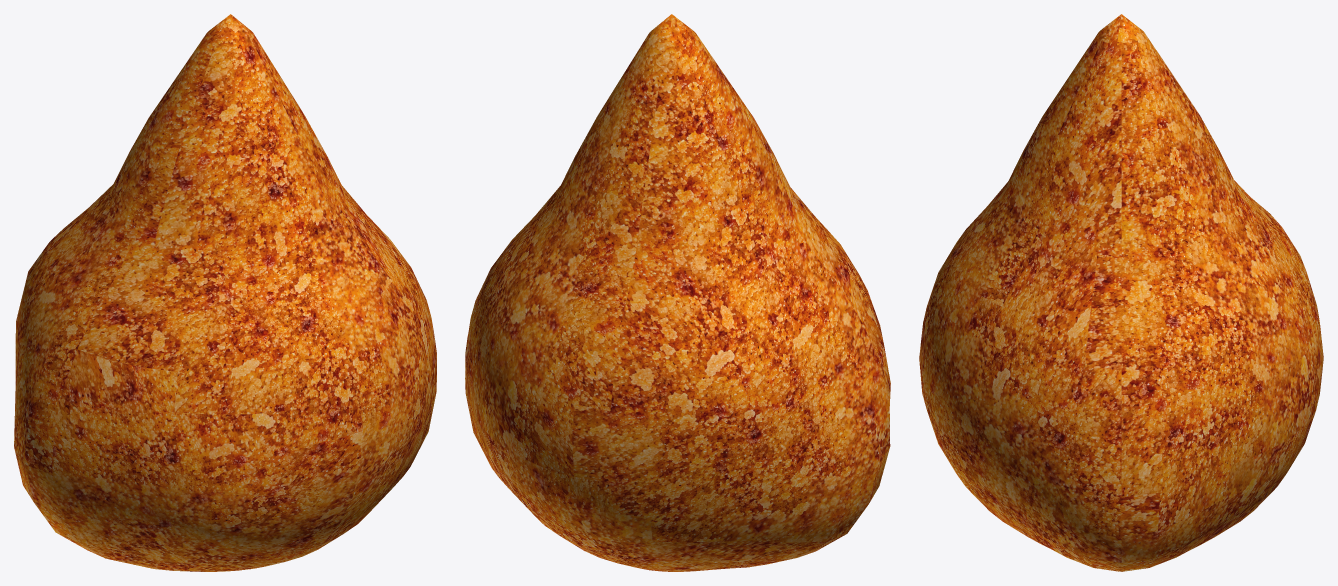
File: salgado_coxinha.glb
3 renders of one model, left to right at view 1: azimuth 30°, elevation 25°; view 2: azimuth 150°, elevation 25°; view 3: azimuth 270°, elevation 25°, orthographic.
Parts seen in each view (by area): view 1: Sphere; view 2: Sphere; view 3: Sphere.
Boxes of the visible parts, x1,y1,x2,y2 form: Sphere: [14, 14, 436, 571]; Sphere: [465, 14, 890, 571]; Sphere: [919, 14, 1323, 571].
Size of the model in its own units: 3.49 by 4.48 by 3.1.
1 material, 1 textured.
